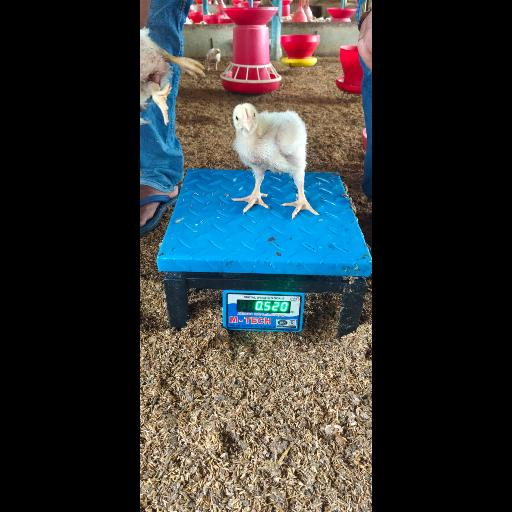chick: (231, 103, 319, 219)
